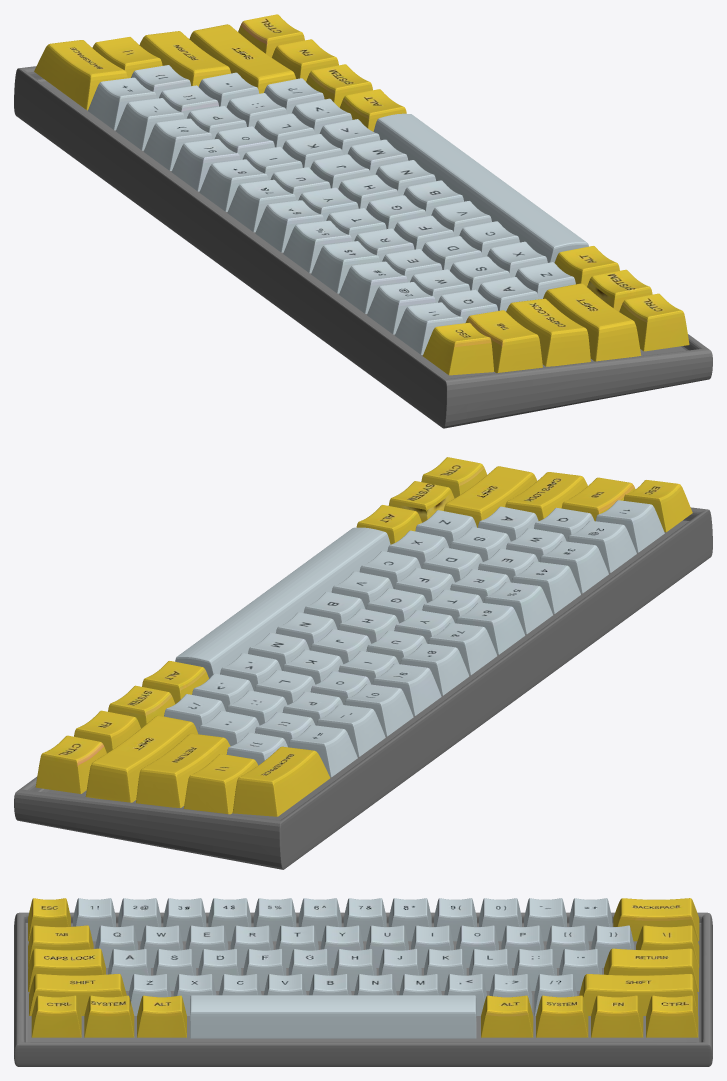
Rendered from 60_Keyboard_1_yellow_white-transformed.glb.
3 views of the same model, one above another, from view 1: azimuth 30°, elevation 25°; view 2: azimuth 150°, elevation 25°; view 3: azimuth 270°, elevation 25° (orthographic). The views are drawn at different scales.
Visible parts, largest first — view 1: Plane; view 2: Plane; view 3: Plane.
Part boxes in pixels (left/top/right/bottom): Plane: left=14, top=14, right=712, bottom=428; Plane: left=14, top=457, right=712, bottom=869; Plane: left=14, top=898, right=712, bottom=1066.
Size of the model in its own units: 4.25 by 1.38 by 11.86.
Materials: 2 (1 with a texture image).
